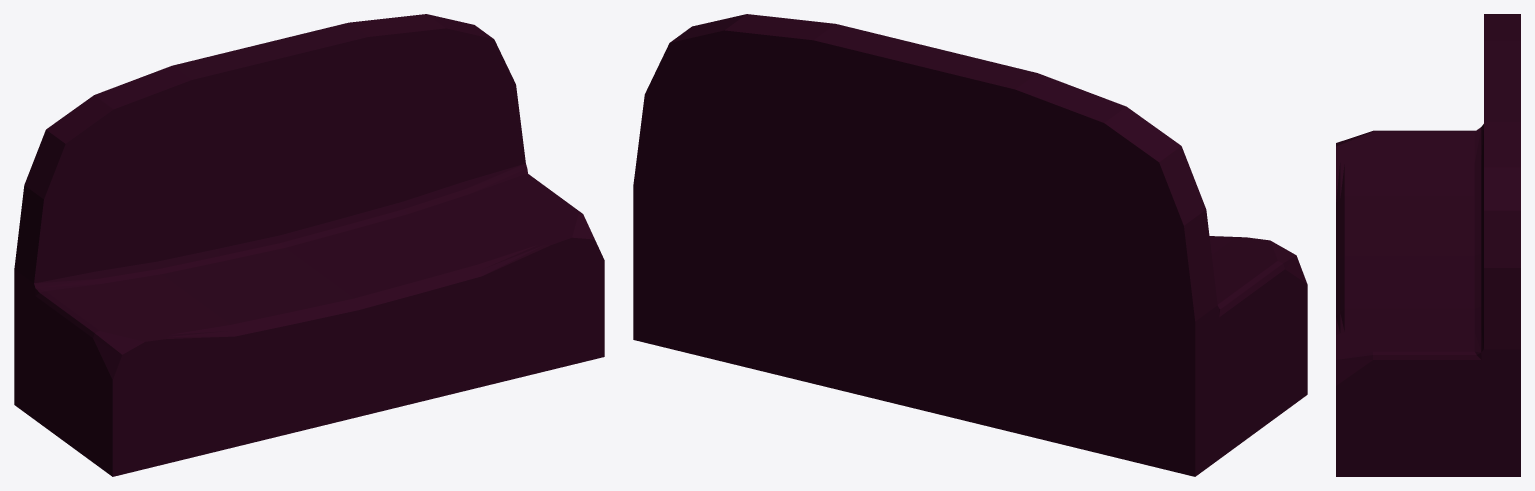
The model's file is fauteuil.fbx.
3 renders of one model, left to right at view 1: azimuth 30°, elevation 25°; view 2: azimuth 150°, elevation 25°; view 3: azimuth 270°, elevation 25°, orthographic. The views are drawn at different scales.
Parts seen in each view (by area): view 1: Box004; view 2: Box004; view 3: Box004.
Part boxes in pixels (x1,y1,x2,y2): Box004: (14,14,604,476); Box004: (633,14,1307,476); Box004: (1336,14,1520,476).
Size of the model in its own units: 39.05 by 13.52 by 22.82.
